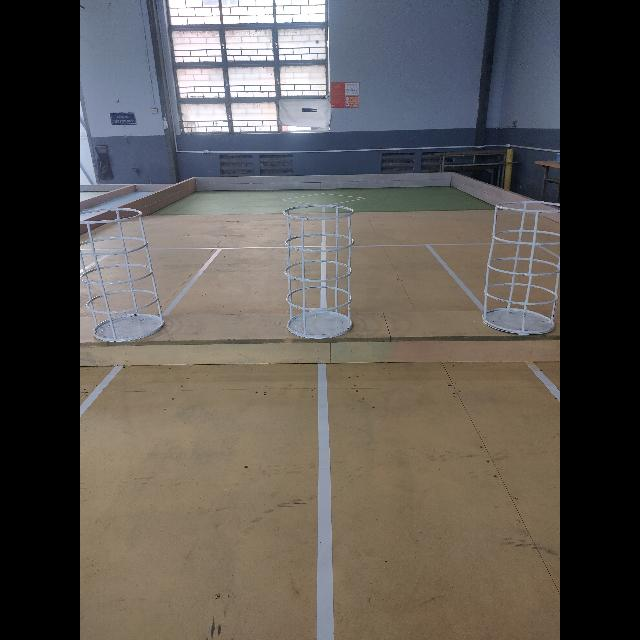S: (80, 209, 165, 343), (482, 202, 560, 335), (283, 204, 354, 343)
